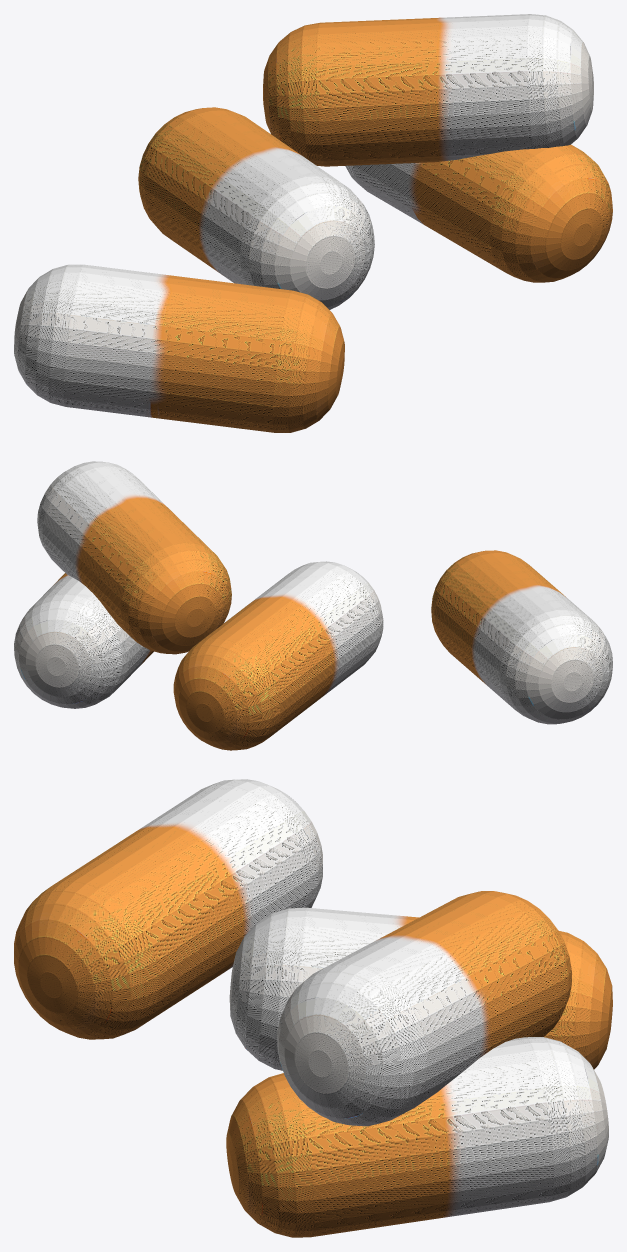
The model's file is taspillule.fbx.
3 views of the same model, one above another, from view 1: azimuth 30°, elevation 25°; view 2: azimuth 150°, elevation 25°; view 3: azimuth 270°, elevation 25° (orthographic). The views are drawn at different scales.
Parts seen in each view (by area): view 1: Cylinder.011; view 2: Cylinder.011; view 3: Cylinder.011.
Boxes of the visible parts, x1=… form: Cylinder.011: x1=14, y1=14, x2=612, y2=432; Cylinder.011: x1=14, y1=461, x2=612, y2=750; Cylinder.011: x1=14, y1=779, x2=612, y2=1237.
Size of the model in its own units: 11.44 by 4.09 by 8.23.
